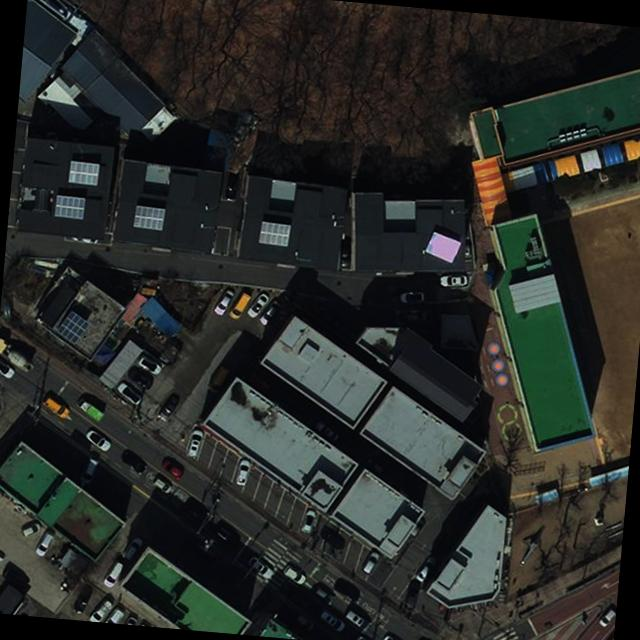solar: (504, 268, 565, 318), (54, 307, 92, 347), (132, 202, 166, 231), (258, 219, 292, 248), (66, 158, 100, 186), (53, 193, 86, 220)
